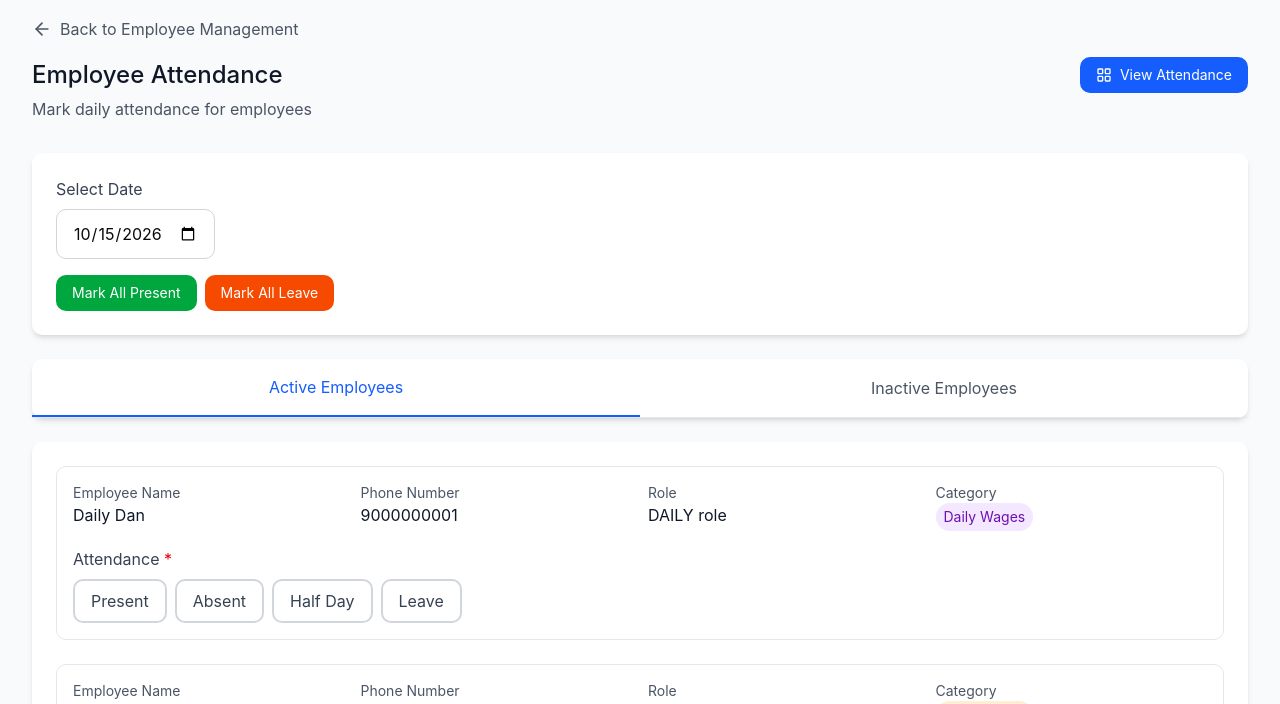
Test case: AttendanceScreen › marking attendance › refuses to save until everyone is marked, and says so
The image size is (1280, 704).
Expected: the text "Daily Dan" is shown, [73, 505, 145, 525]
Click the button "Present".
click(120, 601)  # box [73, 579, 167, 623]
(page scrolled)
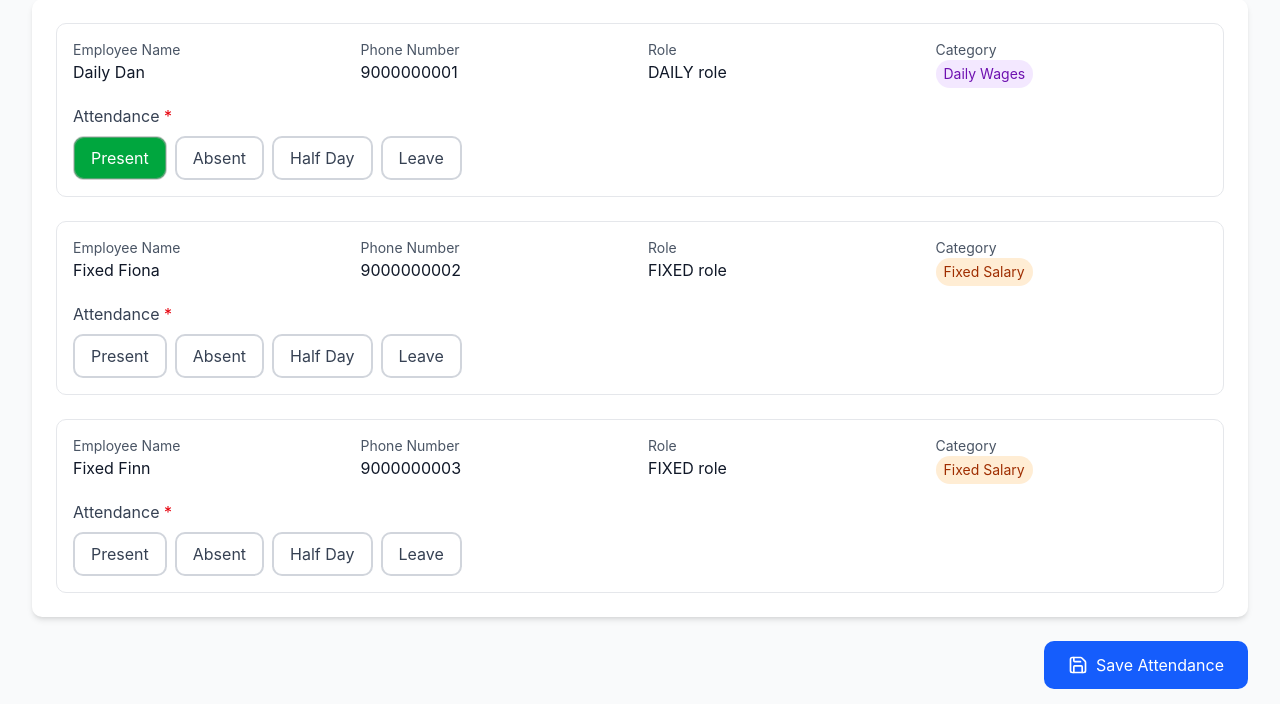
Click the button "Save Attendance".
click(1146, 665)  # box [1044, 641, 1248, 689]
(page scrolled)
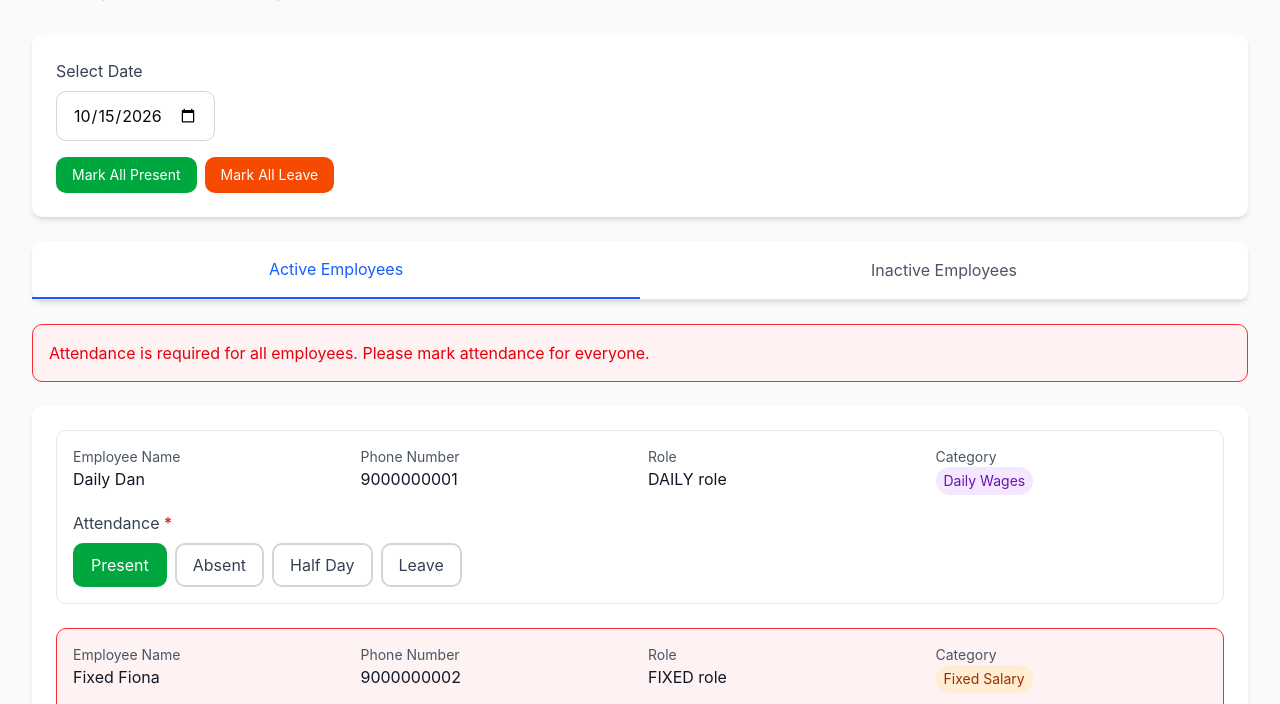
Result: the text "Attendance is required for all employees. Please mark attendance for everyone." is shown at [49, 343, 650, 363]
